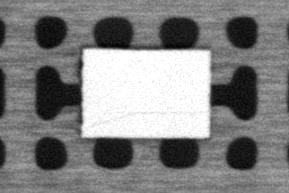DIE_CRACK: (86, 108, 205, 129)
